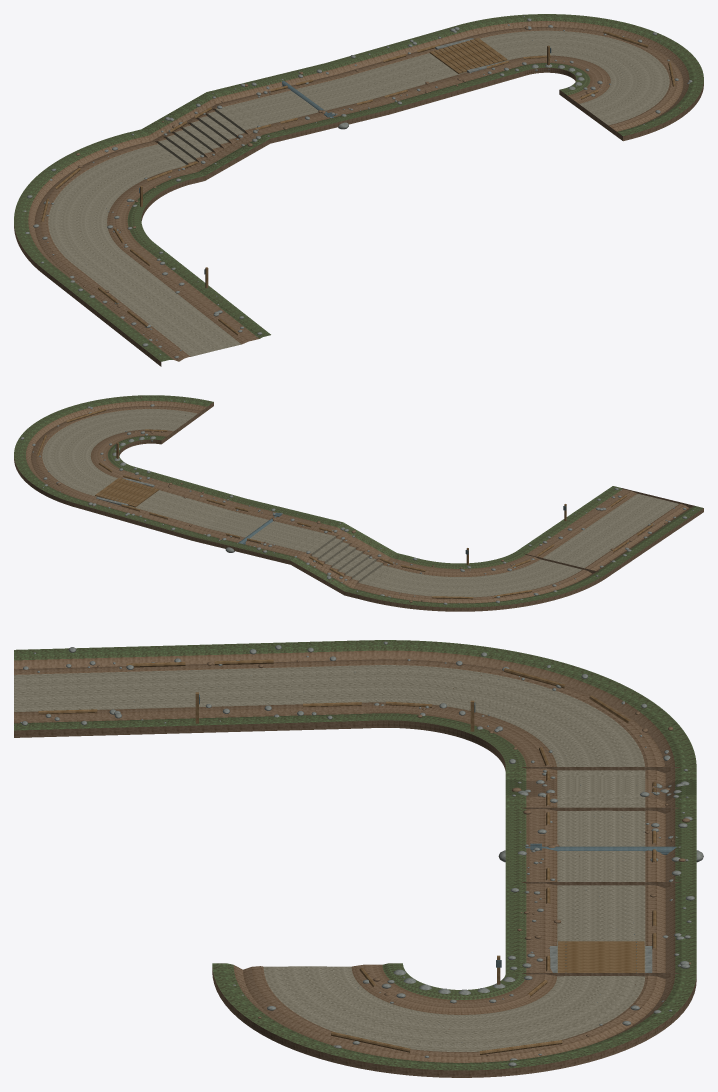
3 views of the same model, one above another, from view 1: azimuth 30°, elevation 25°; view 2: azimuth 150°, elevation 25°; view 3: azimuth 270°, elevation 25° (orthographic). The views are drawn at different scales.
Parts seen in each view (by area): view 1: VIS_Route_gravel__gravel, VIS_Route_packed_soil__packed_soil, VIS_Route_forest_floor__forest_floor, VIS_Route_timber__timber, VIS_Route_granite__granite; view 2: VIS_Route_gravel__gravel, VIS_Route_packed_soil__packed_soil, VIS_Route_forest_floor__forest_floor, VIS_Route_timber__timber, VIS_Route_granite__granite; view 3: VIS_Route_gravel__gravel, VIS_Route_packed_soil__packed_soil, VIS_Route_forest_floor__forest_floor, VIS_Route_timber__timber, VIS_Route_granite__granite, VIS_Route_weathered_steel__weathered_steel.
Part boxes in pixels (box(x1,y1,x2,y2)): VIS_Route_gravel__gravel: box(48, 30, 669, 356); VIS_Route_packed_soil__packed_soil: box(14, 21, 703, 366); VIS_Route_forest_floor__forest_floor: box(14, 14, 703, 361); VIS_Route_timber__timber: box(41, 30, 675, 335); VIS_Route_granite__granite: box(23, 15, 692, 358); VIS_Route_gravel__gravel: box(42, 409, 678, 597); VIS_Route_packed_soil__packed_soil: box(14, 397, 703, 611); VIS_Route_forest_floor__forest_floor: box(14, 395, 703, 607); VIS_Route_timber__timber: box(36, 408, 653, 599); VIS_Route_granite__granite: box(20, 400, 693, 604); VIS_Route_gravel__gravel: box(14, 665, 645, 1051); VIS_Route_packed_soil__packed_soil: box(14, 650, 696, 1077); VIS_Route_forest_floor__forest_floor: box(14, 640, 696, 1070); VIS_Route_timber__timber: box(38, 659, 656, 1054); VIS_Route_granite__granite: box(20, 641, 703, 1066); VIS_Route_weathered_steel__weathered_steel: box(199, 694, 676, 972).
Bounding box in the file's own units: 39.34 × 3.84 × 23.5.
Materials: 6 (6 with a texture image).
